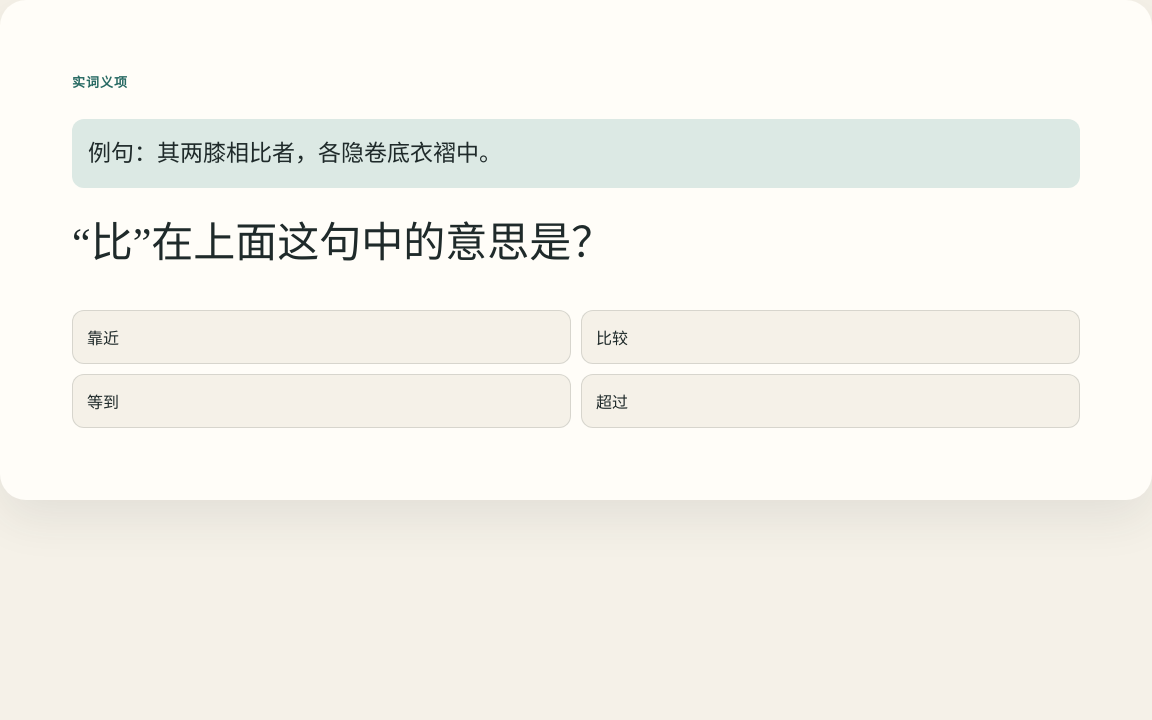
it: ReviewCard › shows the answer and self-rating after a wrong choice
What coordinates should you click on to do the following:
click the button "比较"
I would click on:
 (612, 338)
Its box is [581,310,1080,364].
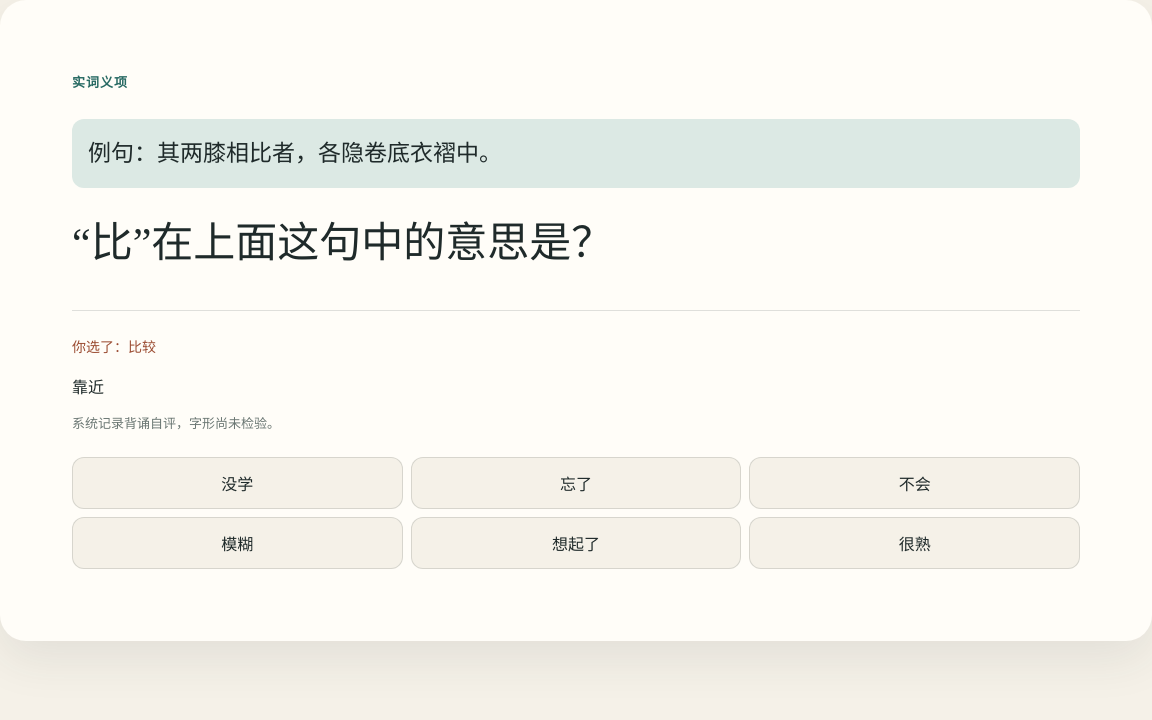
Expected: the text "靠近" is shown, [72,379,104,396]
Expected: the button "不会" is shown, [749,457,1080,509]
